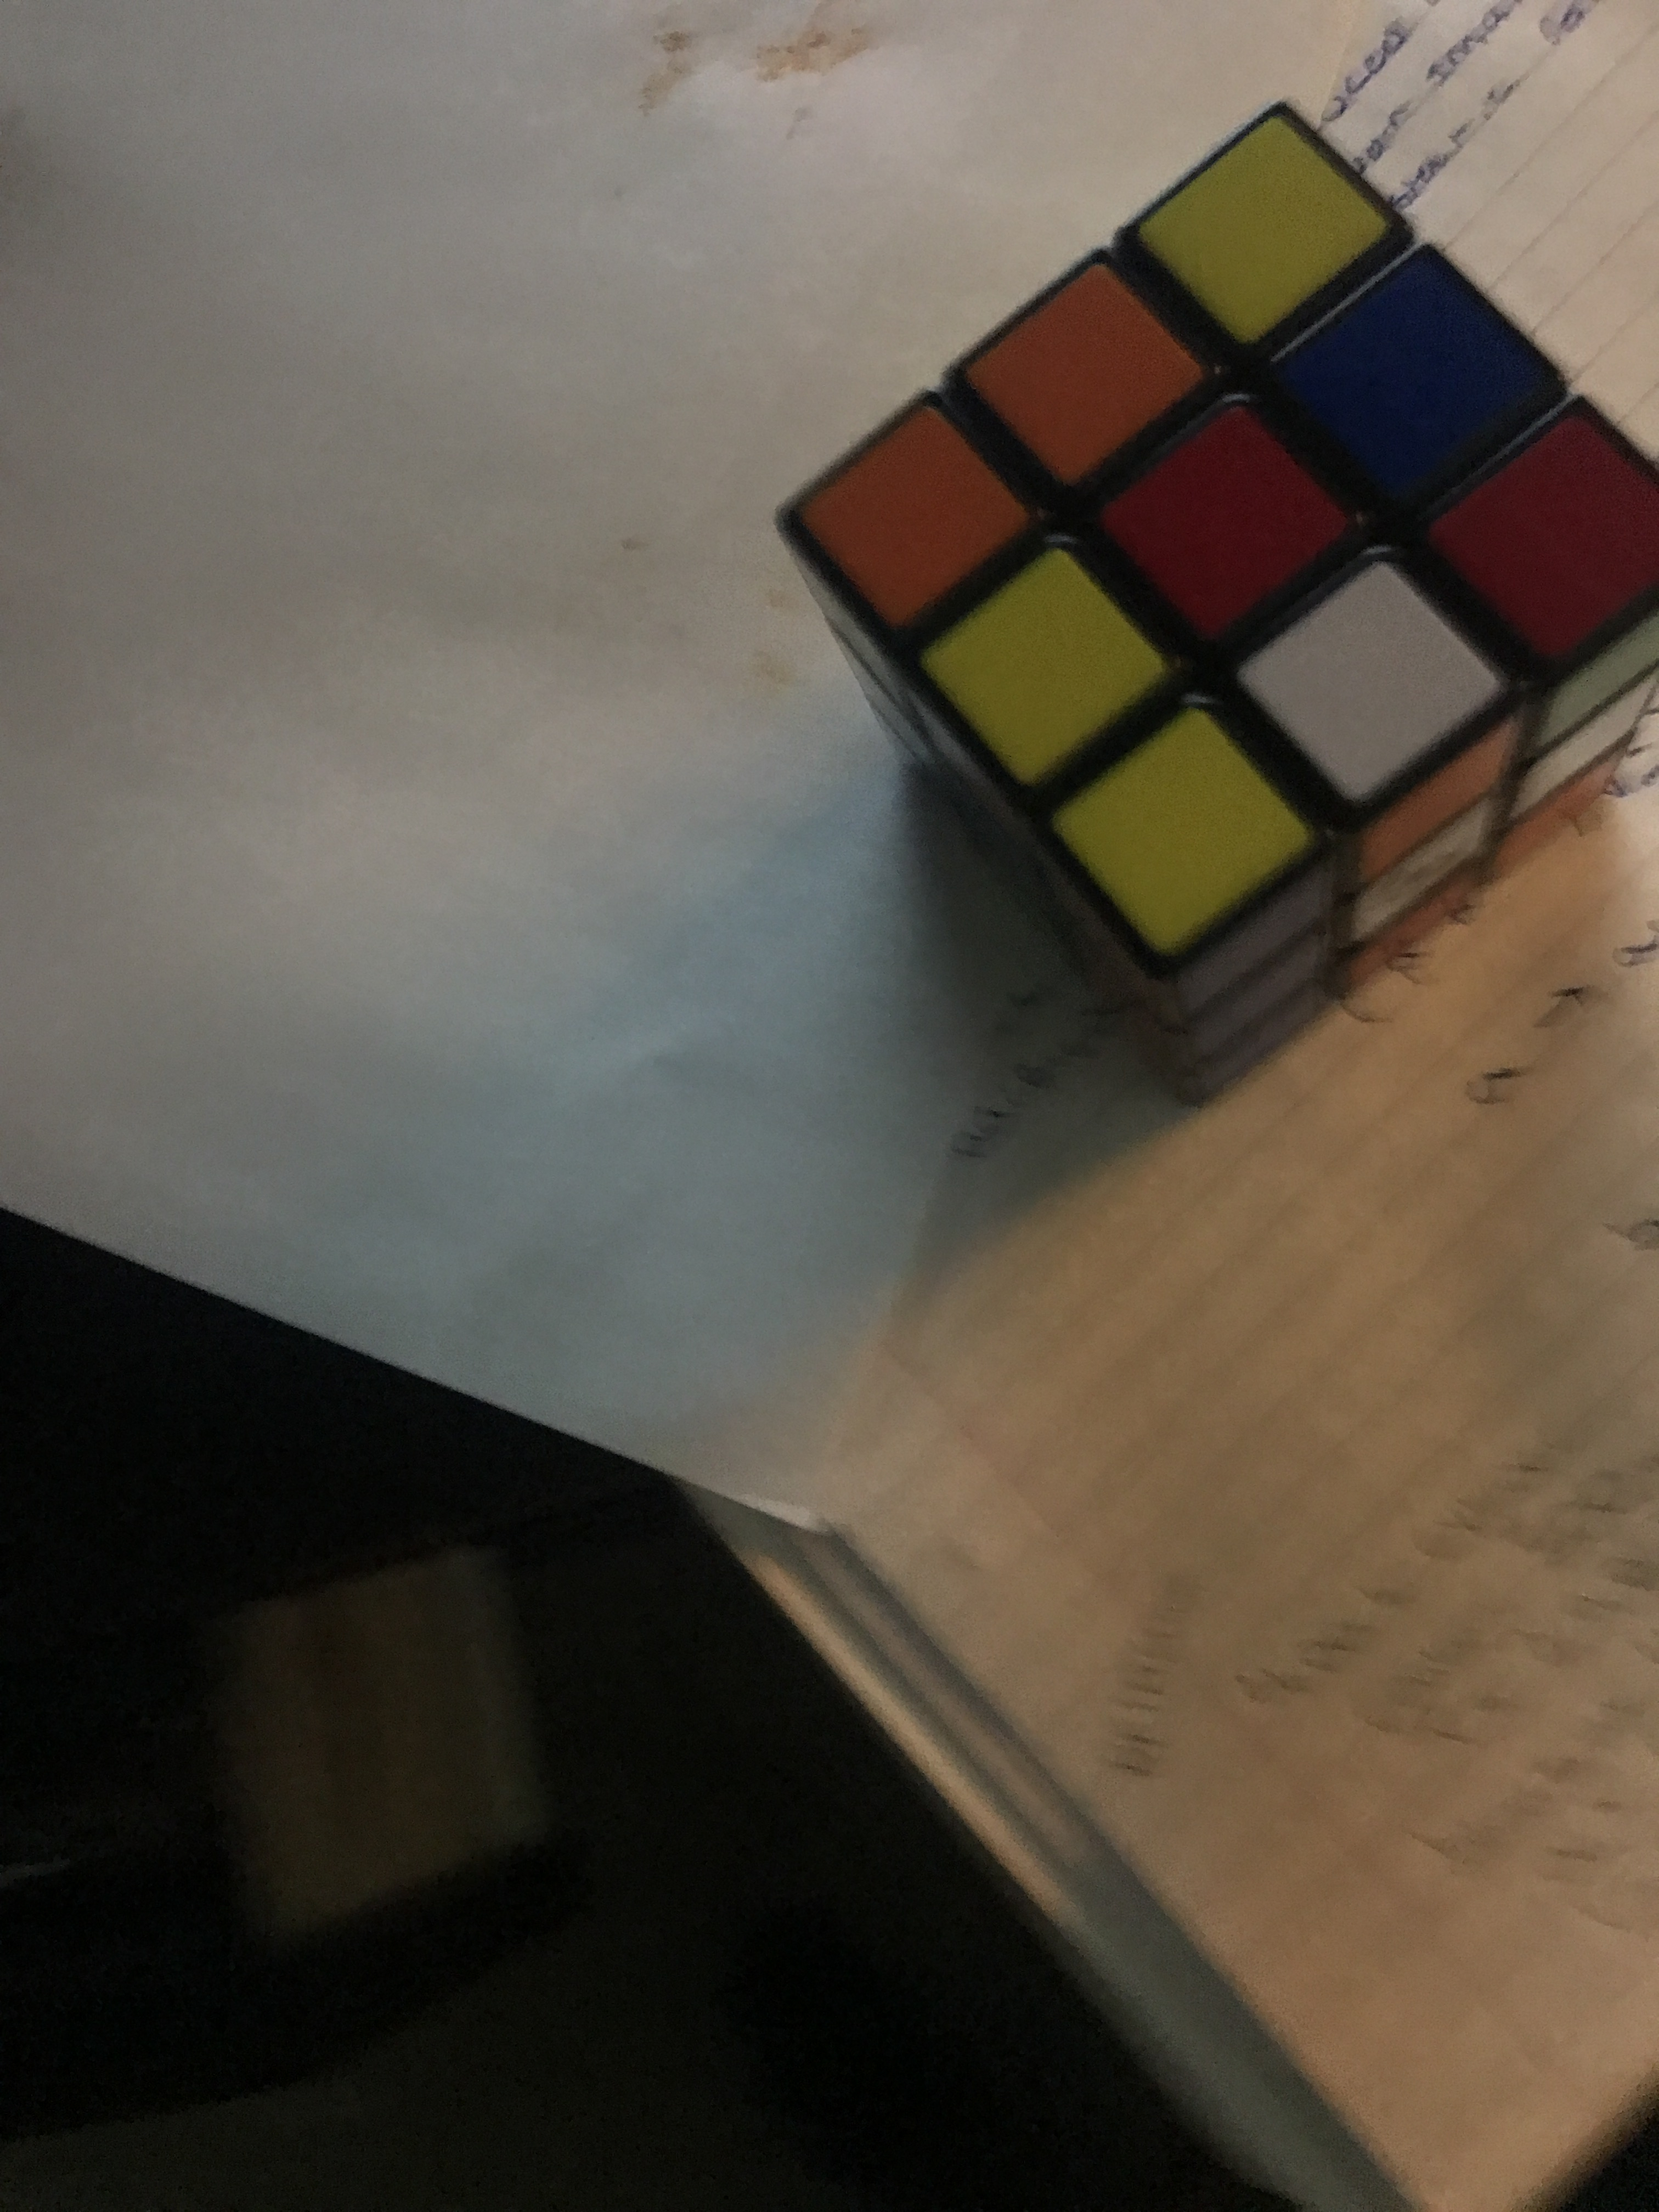rubiks: (772, 108, 1635, 1125)
